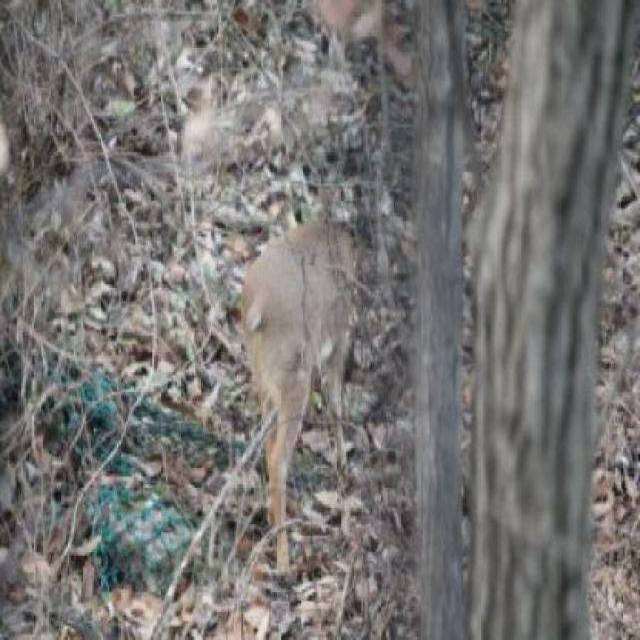deer: (196, 167, 382, 593)
